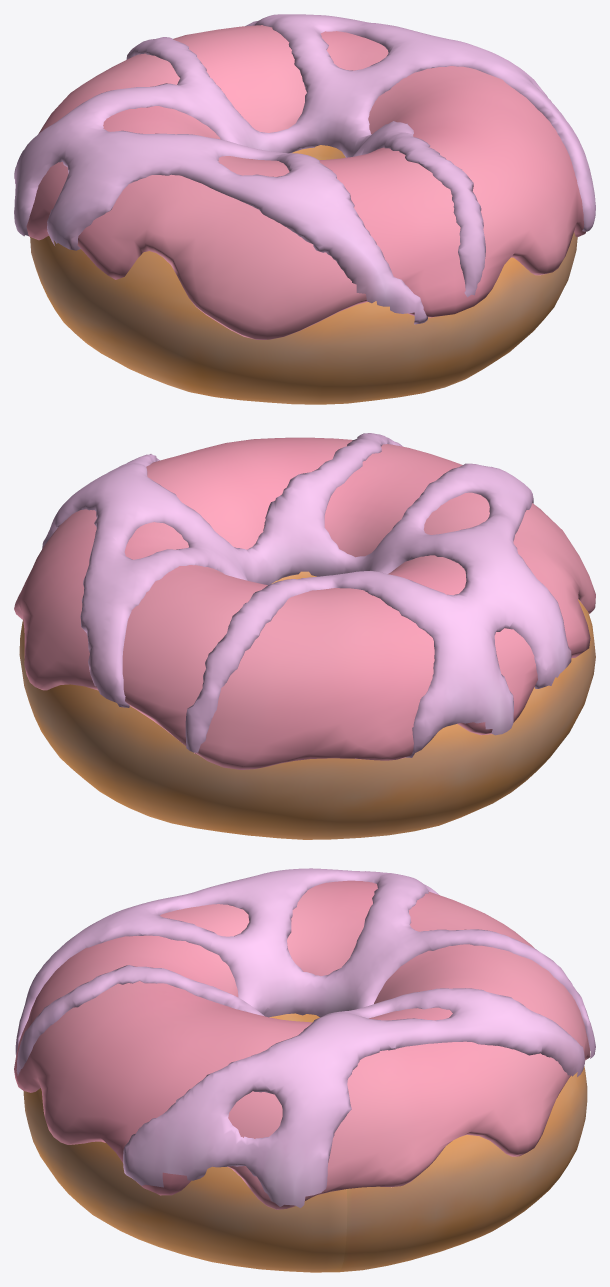
File: donut3-v1.glb
3 renders of one model, top to bottom at view 1: azimuth 30°, elevation 25°; view 2: azimuth 150°, elevation 25°; view 3: azimuth 270°, elevation 25°, orthographic. The views are drawn at different scales.
Parts seen in each view (by area): view 1: Donut_3; view 2: Donut_3; view 3: Donut_3.
Part boxes in pixels (<box>): Donut_3: <box>14,14,595,404</box>; Donut_3: <box>14,433,595,839</box>; Donut_3: <box>14,868,595,1272</box>.
Bounding box in the file's own units: 0.6906 × 0.3091 × 0.6846.
Materials: 1 (1 with a texture image).
